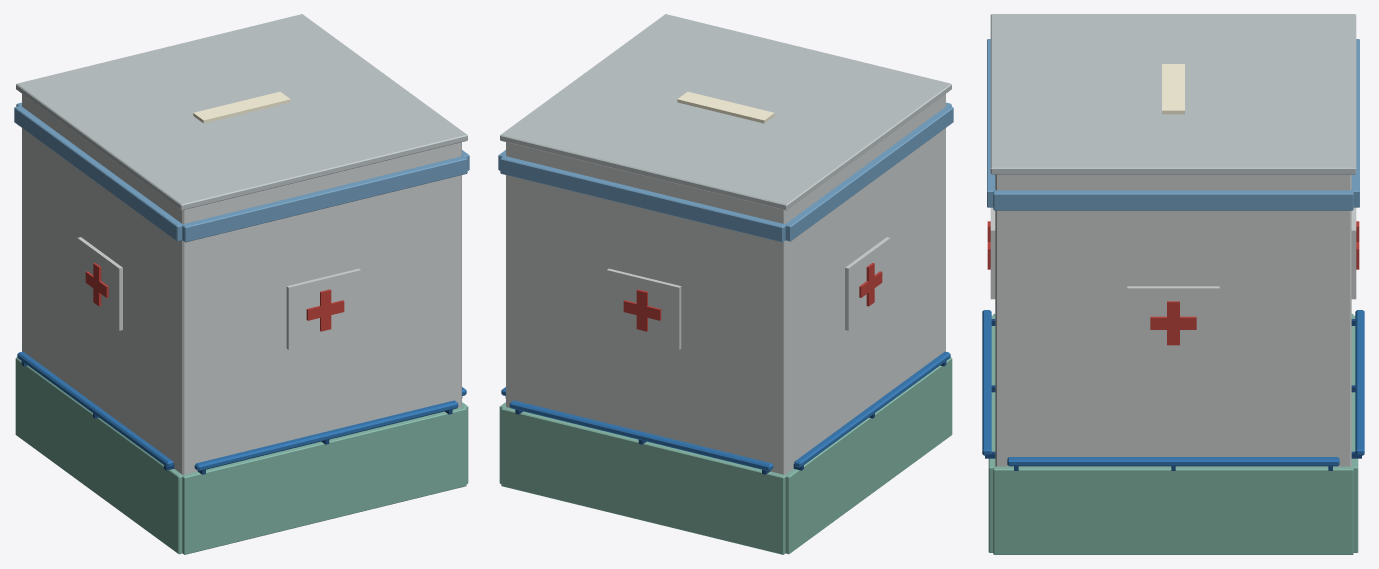
Rendered from wall_a.fbx.
3 renders of one model, left to right at view 1: azimuth 30°, elevation 25°; view 2: azimuth 150°, elevation 25°; view 3: azimuth 270°, elevation 25°, orthographic. The views are drawn at different scales.
Parts seen in each view (by area): view 1: wall_a; view 2: wall_a; view 3: wall_a.
Part boxes in pixels (left/top/right/bottom): wall_a: left=14, top=14, right=469, bottom=554; wall_a: left=498, top=14, right=953, bottom=554; wall_a: left=982, top=14, right=1364, bottom=554.
Bounding box in the file's own units: 4 × 4.5 × 4.
